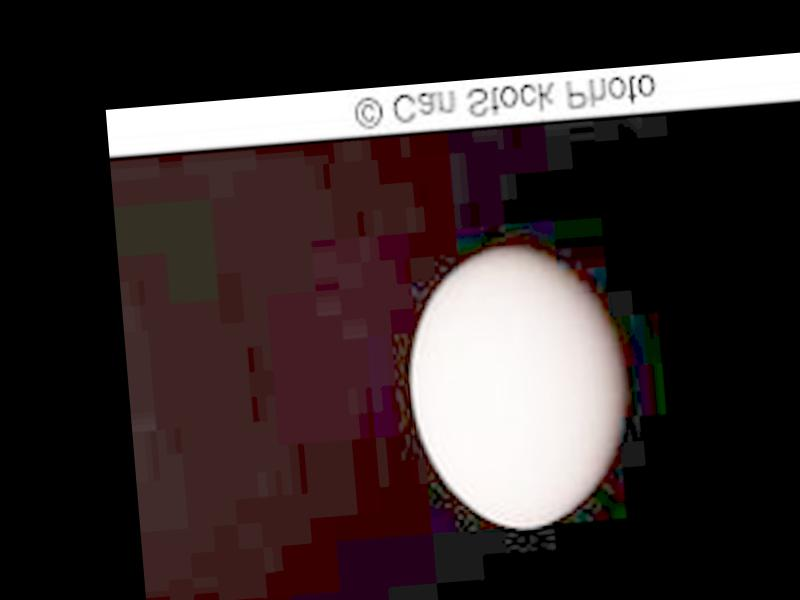Eggs: (400, 234, 632, 537)
